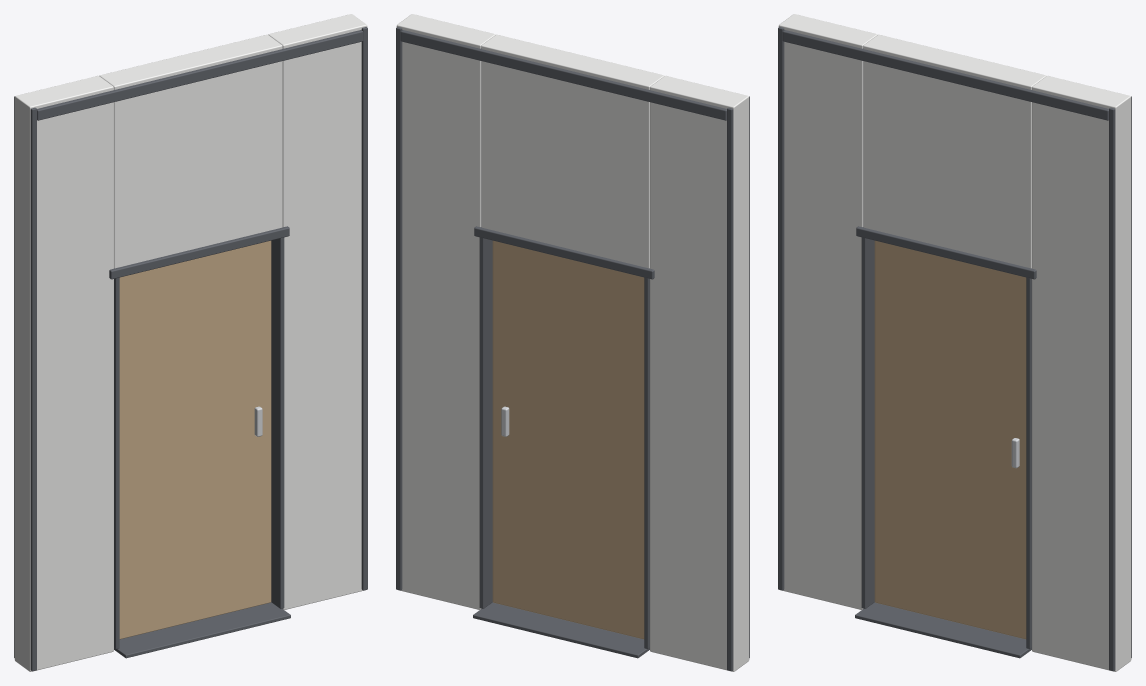
3 views of the same model, side by side, from view 1: azimuth 30°, elevation 25°; view 2: azimuth 150°, elevation 25°; view 3: azimuth 330°, elevation 25° (orthographic).
Parts seen in each view (by area): view 1: gallery-doorway-module, leaf/oak; view 2: gallery-doorway-module, leaf/oak; view 3: gallery-doorway-module, leaf/oak.
Boxes of the visible parts, x1,y1,x2,y2 form: gallery-doorway-module: (14,14,367,671); leaf/oak: (119,240,271,639); gallery-doorway-module: (396,14,749,671); leaf/oak: (492,240,644,639); gallery-doorway-module: (778,14,1131,671); leaf/oak: (874,240,1026,639).
Size of the model in its own units: 2 by 3.2 by 0.3598.
